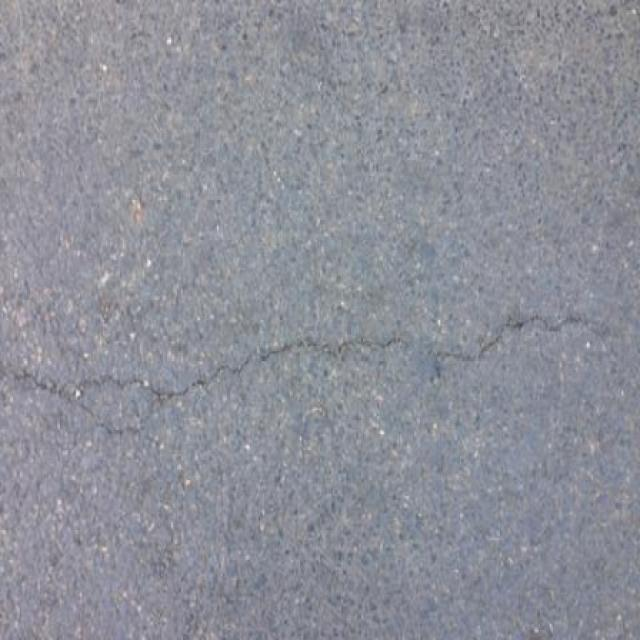Alligator Crack: (6, 332, 421, 442), (81, 385, 154, 425)
